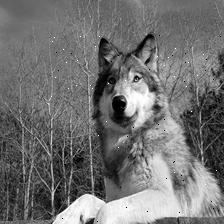WOLF: (51, 34, 224, 224)
